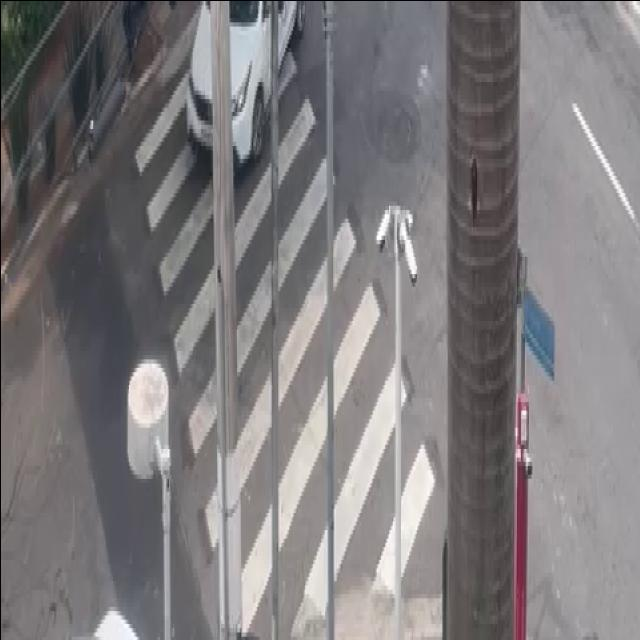car: (180, 0, 310, 168)
